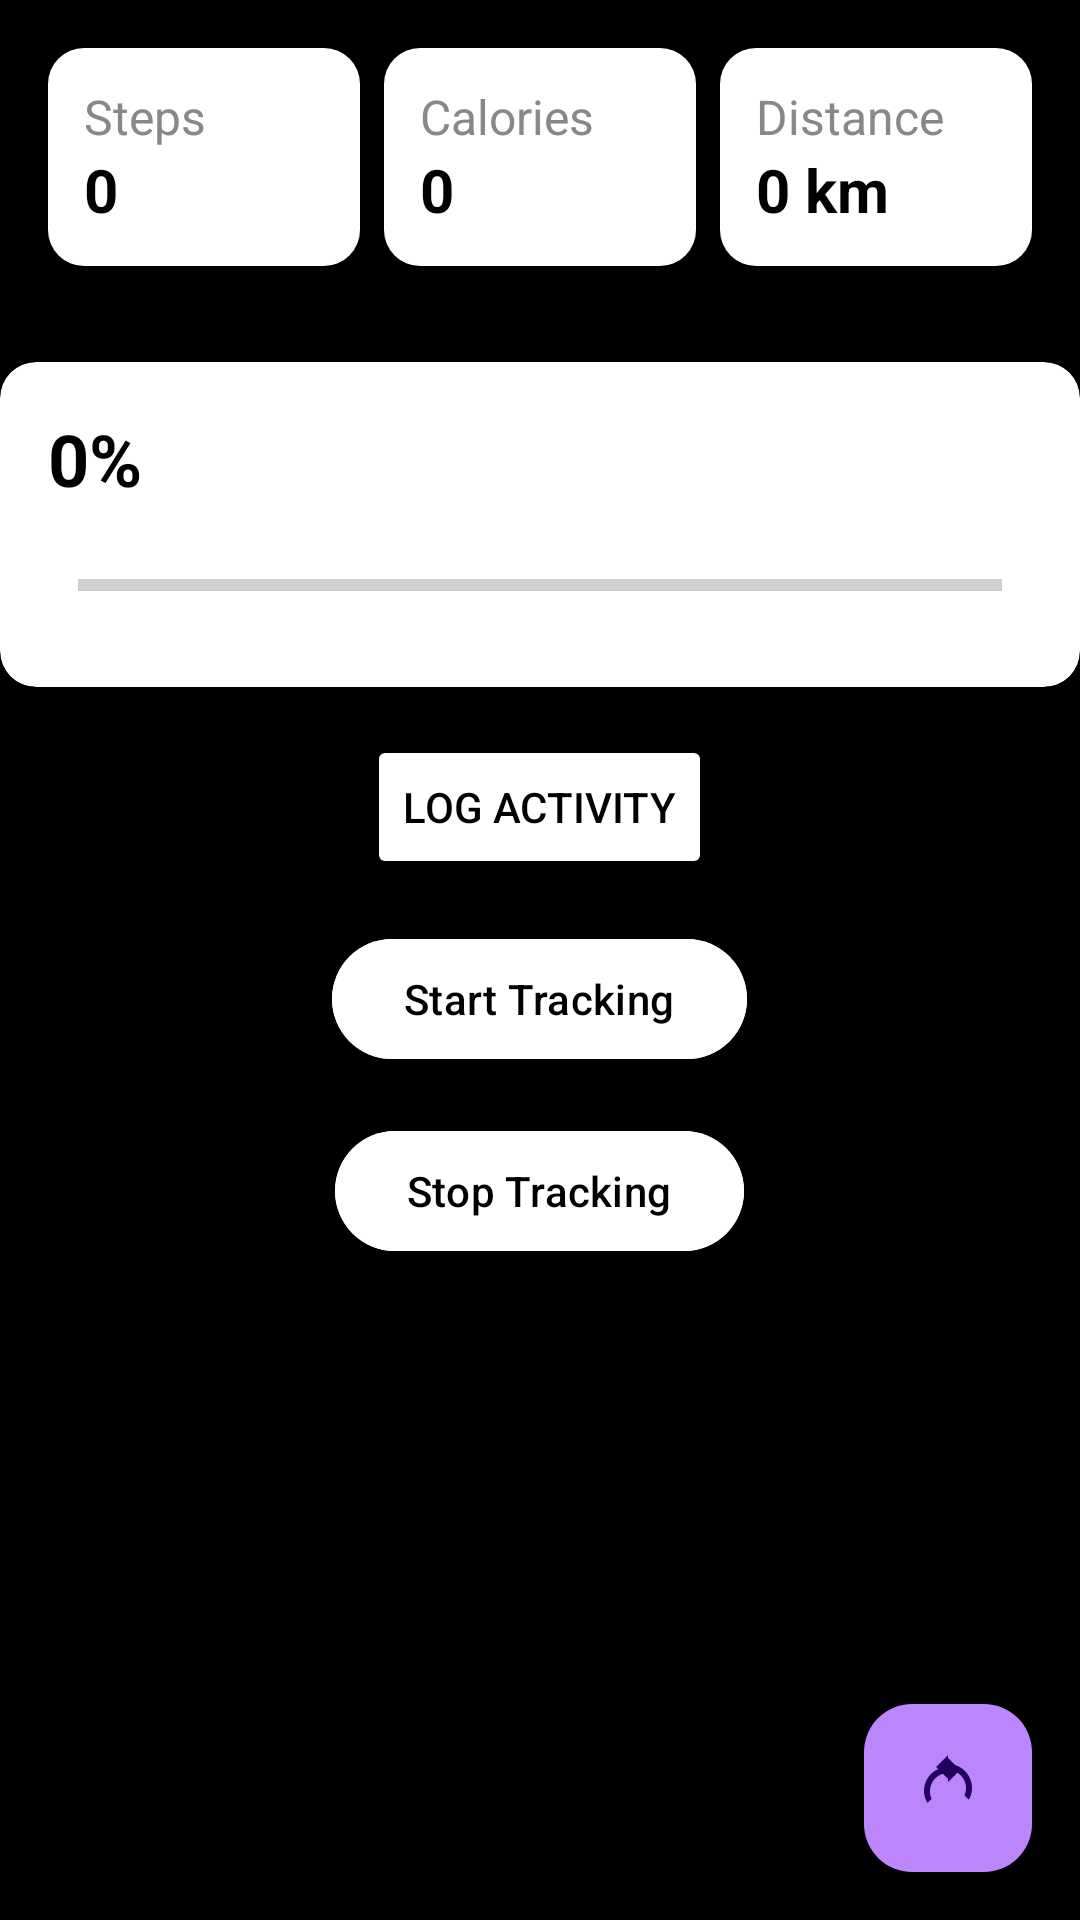

Screen size 1080×1920. Icon name, then its center in pixels as (x=x, y=y):
Refresh Data: (x=948, y=1788)
